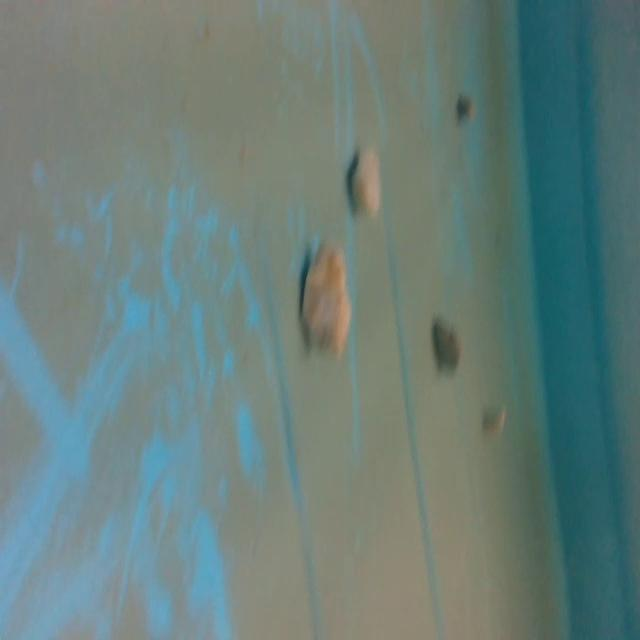rock: (297, 244, 351, 358), (343, 142, 385, 224), (429, 312, 461, 373), (451, 90, 480, 122), (484, 405, 511, 439)
